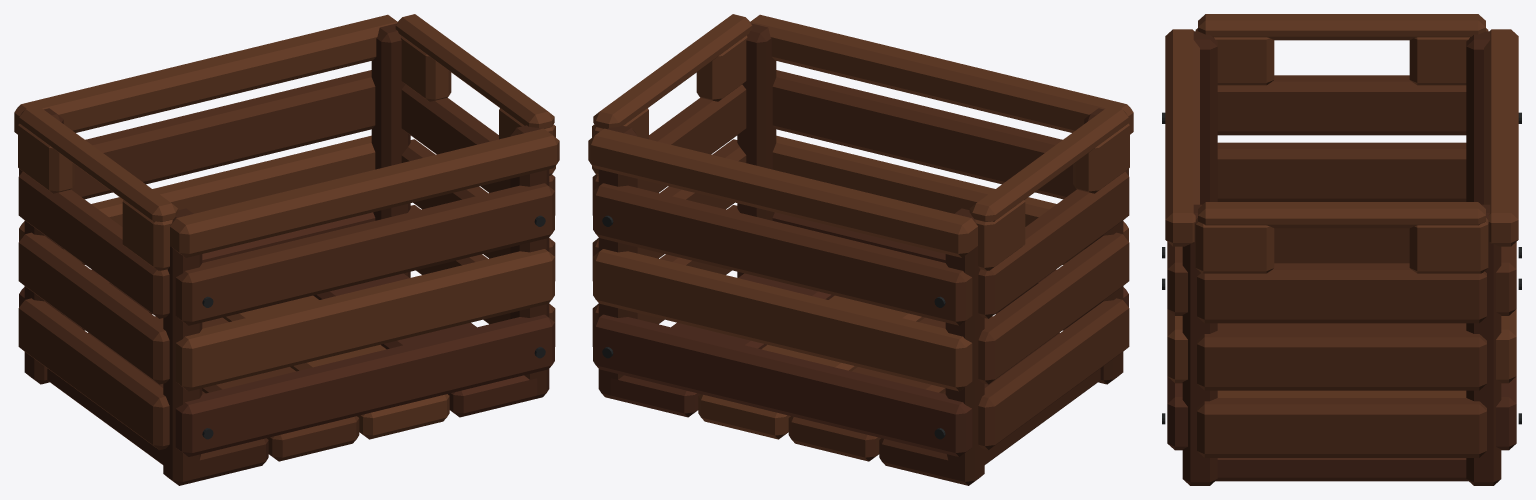
Rendered from OpenCellarCrate.glb.
3 views of the same model, side by side, from view 1: azimuth 30°, elevation 25°; view 2: azimuth 150°, elevation 25°; view 3: azimuth 270°, elevation 25° (orthographic). The views are drawn at different scales.
Parts seen in each view (by area): view 1: LongSidePlank.002, LongSidePlank.004, LongSidePlank, LongTopRail, LongSidePlank.005, LongTopRail.001, EndPlank, EndPlank.002, EndPlank.004, LongSidePlank.003, HandleBridge, HandleBridge.001 (+15 smaller); view 2: LongSidePlank.003, LongSidePlank.005, LongSidePlank.001, LongTopRail.001, LongSidePlank.004, LongTopRail, EndPlank, EndPlank.002, EndPlank.004, LongSidePlank.002, HandleBridge, HandleBridge.001 (+15 smaller); view 3: EndPlank.003, EndPlank.001, EndPlank.005, EndPlank.002, EndPlank.004, HandleBridge.001, LongTopRail, LongTopRail.001, HandleBridge, FloorPlank.003, EndPlank, CornerPost.002 (+15 smaller).
Boxes of the visible parts, x1=… form: LongSidePlank.002: x1=175, y1=249, x2=554, y2=391; LongSidePlank.004: x1=175, y1=183, x2=554, y2=325; LongSidePlank: x1=175, y1=314, x2=554, y2=456; LongTopRail: x1=170, y1=128, x2=559, y2=257; LongSidePlank.005: x1=19, y1=70, x2=375, y2=199; LongTopRail.001: x1=14, y1=14, x2=397, y2=134; EndPlank: x1=18, y1=298, x2=169, y2=450; EndPlank.002: x1=18, y1=232, x2=169, y2=384; EndPlank.004: x1=18, y1=171, x2=169, y2=318; LongSidePlank.003: x1=19, y1=135, x2=375, y2=264; HandleBridge: x1=19, y1=106, x2=178, y2=221; HandleBridge.001: x1=395, y1=14, x2=554, y2=128; LongSidePlank.003: x1=593, y1=249, x2=972, y2=391; LongSidePlank.005: x1=593, y1=183, x2=972, y2=325; LongSidePlank.001: x1=593, y1=314, x2=972, y2=456; LongTopRail.001: x1=588, y1=128, x2=977, y2=257; LongSidePlank.004: x1=772, y1=70, x2=1128, y2=199; LongTopRail: x1=750, y1=14, x2=1133, y2=134; EndPlank: x1=978, y1=298, x2=1129, y2=450; EndPlank.002: x1=978, y1=232, x2=1129, y2=384; EndPlank.004: x1=978, y1=171, x2=1129, y2=318; LongSidePlank.002: x1=772, y1=135, x2=1128, y2=264; HandleBridge: x1=969, y1=106, x2=1128, y2=221; HandleBridge.001: x1=593, y1=14, x2=752, y2=128; EndPlank.003: x1=1197, y1=330, x2=1486, y2=390; EndPlank.001: x1=1197, y1=398, x2=1486, y2=457; EndPlank.005: x1=1197, y1=263, x2=1486, y2=323; EndPlank.002: x1=1217, y1=142, x2=1466, y2=201; EndPlank.004: x1=1217, y1=75, x2=1466, y2=135; HandleBridge.001: x1=1198, y1=202, x2=1485, y2=228; LongTopRail: x1=1165, y1=29, x2=1199, y2=246; LongTopRail.001: x1=1484, y1=29, x2=1518, y2=246; HandleBridge: x1=1198, y1=14, x2=1485, y2=40; FloorPlank.003: x1=1215, y1=458, x2=1468, y2=481; EndPlank: x1=1274, y1=228, x2=1409, y2=263; CornerPost.002: x1=1182, y1=204, x2=1217, y2=485.
Size of the model in its own units: 2.18 by 1.43 by 1.65.
